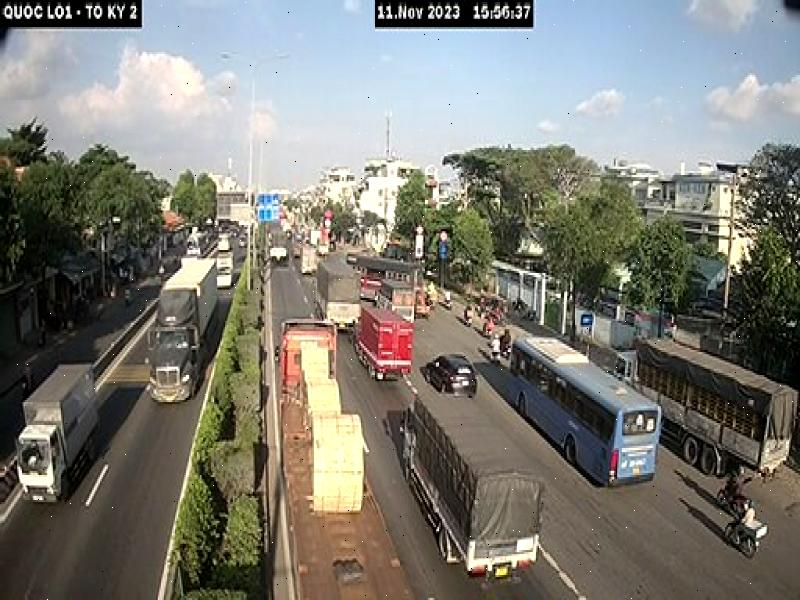bus: (507, 335, 661, 487)
truck: (271, 313, 418, 600), (613, 340, 800, 479), (400, 397, 541, 578), (18, 360, 103, 510), (150, 252, 219, 408), (352, 304, 413, 380)
